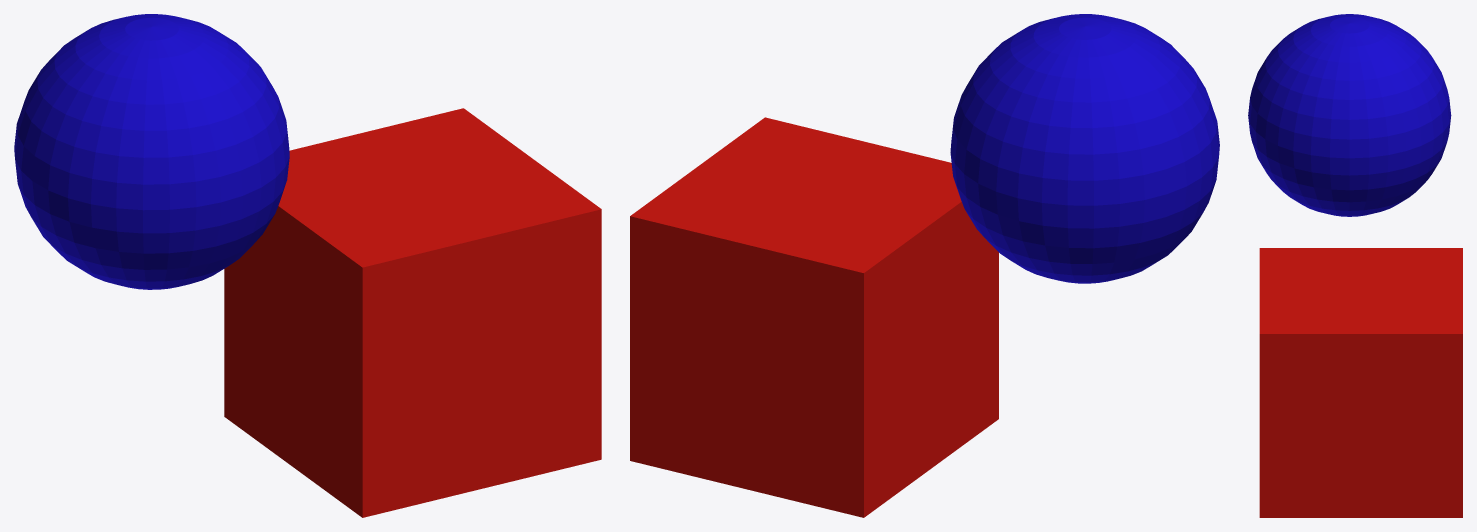
The picture shows the model from 3 angles, left to right: view 1: azimuth 30°, elevation 25°; view 2: azimuth 150°, elevation 25°; view 3: azimuth 270°, elevation 25°; orthographic projection. The views are drawn at different scales.
Visible parts, largest first — view 1: Cube.001, Sphere; view 2: Cube.001, Sphere; view 3: Cube.001, Sphere.
Boxes of the visible parts, bbox=[...] form: Cube.001: bbox=[224, 108, 601, 517]; Sphere: bbox=[14, 14, 289, 289]; Cube.001: bbox=[630, 117, 998, 517]; Sphere: bbox=[950, 14, 1219, 283]; Cube.001: bbox=[1259, 248, 1462, 517]; Sphere: bbox=[1248, 14, 1451, 216].
Size of the model in its own units: 4.25 by 3.86 by 2.11.
